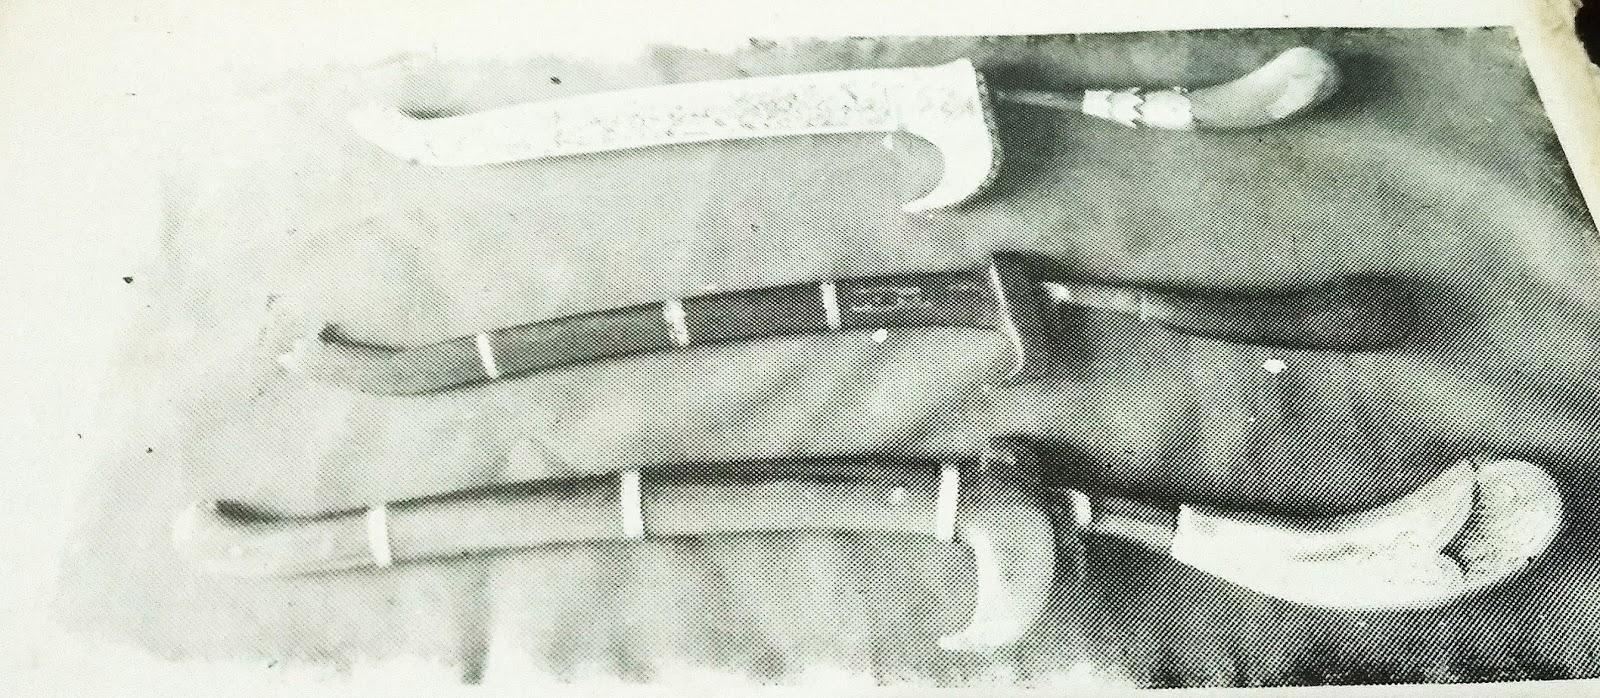espada: (177, 437, 1562, 650), (352, 47, 1336, 212), (320, 252, 1437, 394)
